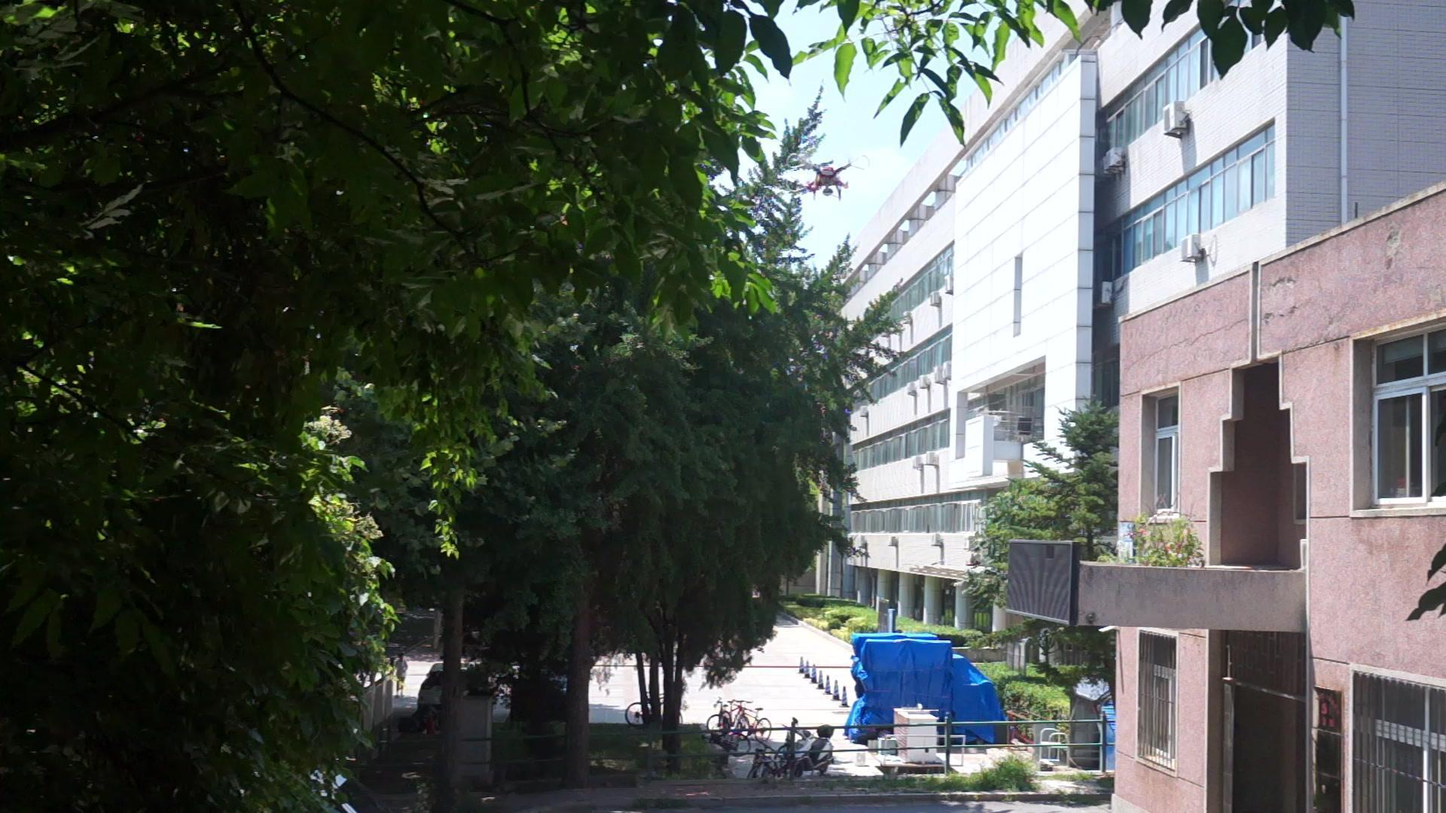UAV: (787, 154, 870, 201)
